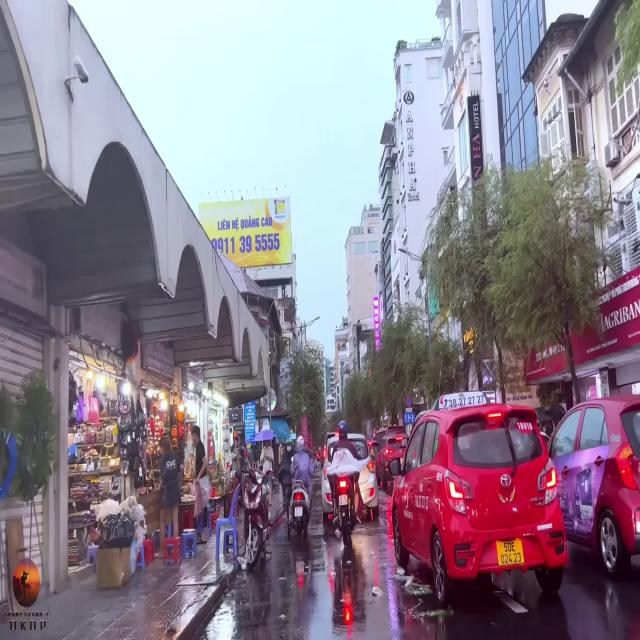bien_vang: (494, 535, 526, 566)
